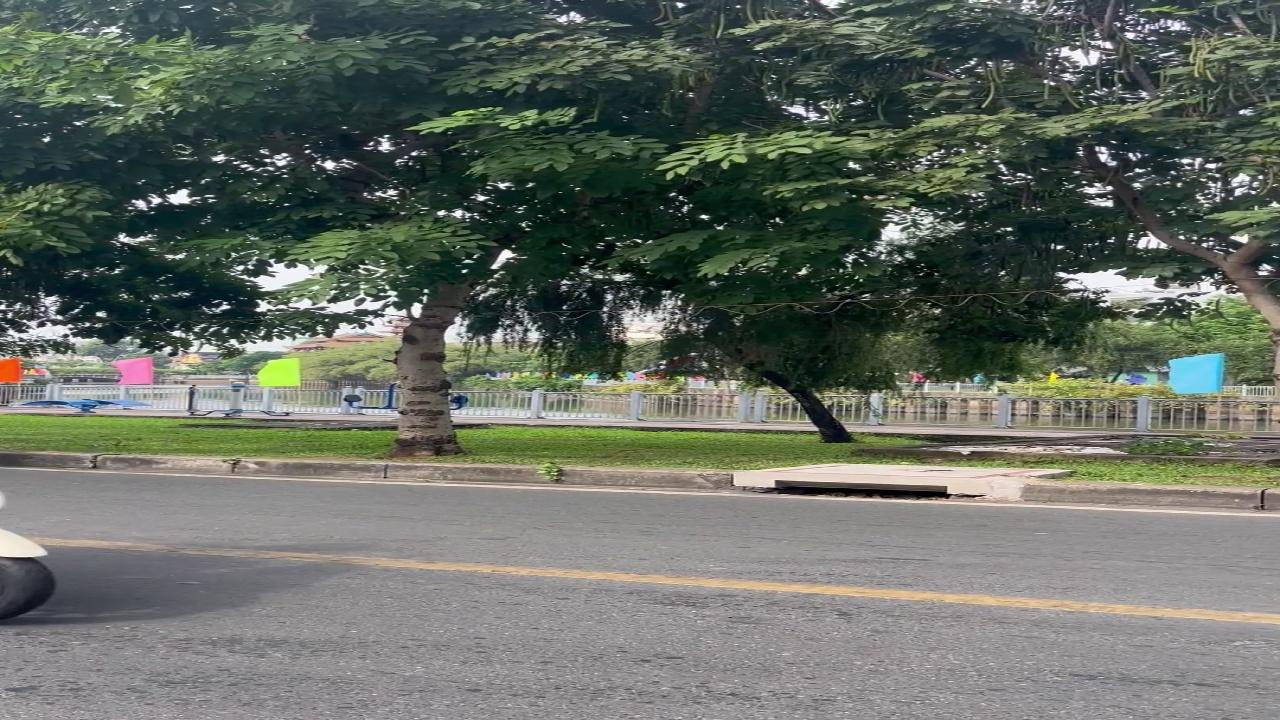Motor: (0, 530, 55, 619)
